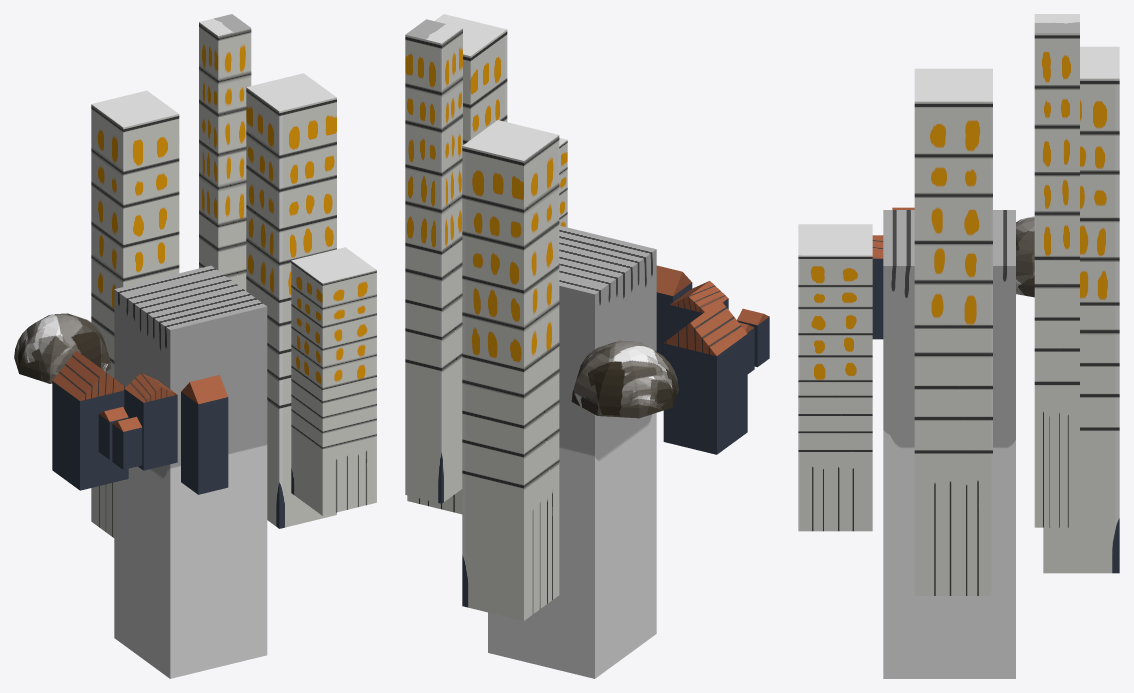
Rendered from Residentials.glb.
3 renders of one model, left to right at view 1: azimuth 30°, elevation 25°; view 2: azimuth 150°, elevation 25°; view 3: azimuth 270°, elevation 25°, orthographic. The views are drawn at different scales.
Parts seen in each view (by area): view 1: Residentials; view 2: Residentials; view 3: Residentials.
Boxes of the visible parts, x1,y1,x2,y2 form: Residentials: (14, 14, 376, 678); Residentials: (405, 14, 769, 678); Residentials: (798, 14, 1119, 678).
Bounding box in the file's own units: 0.5096 × 1.04 × 0.4495.
Materials: 1 (1 with a texture image).
